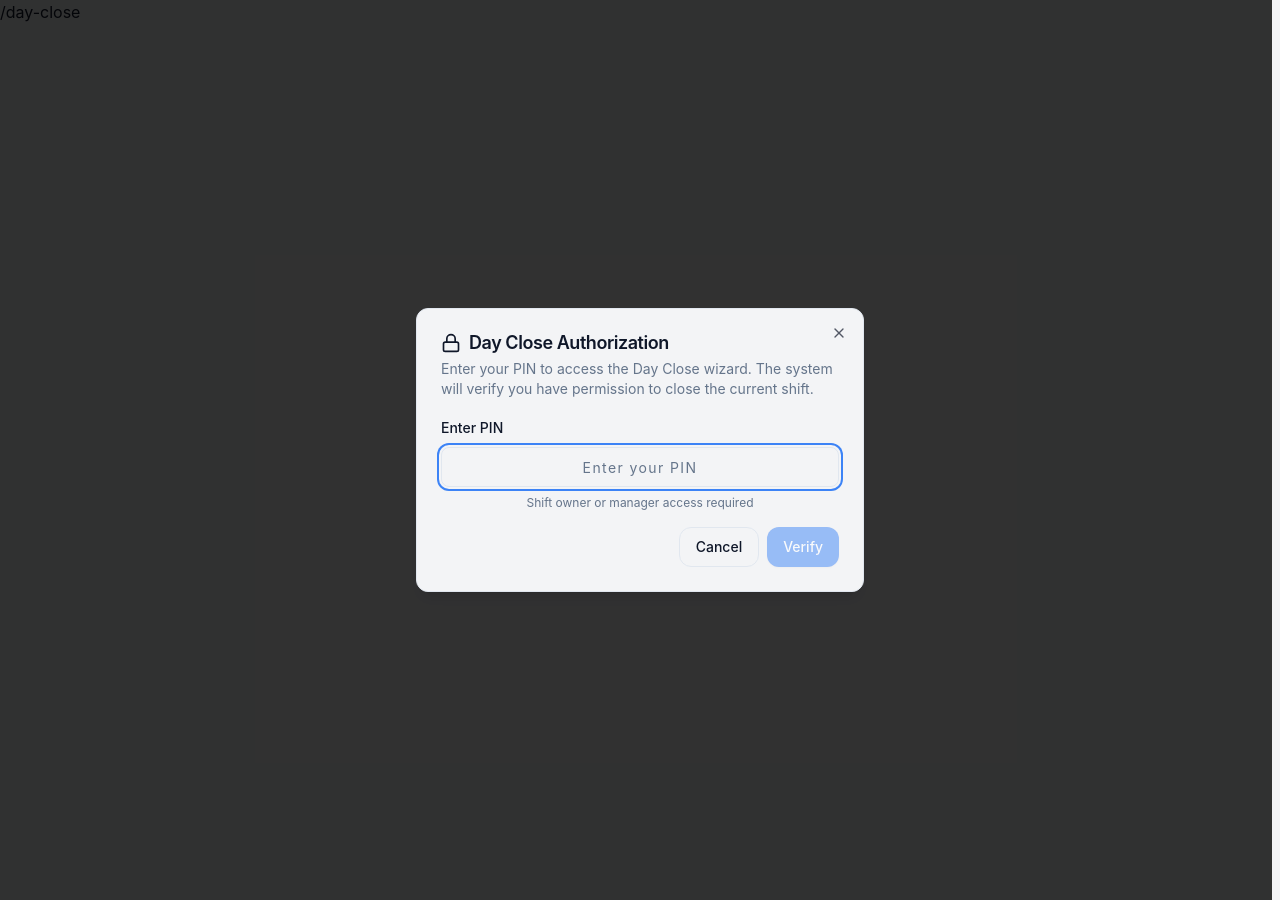
Shift Close Guard Integration (Phase 4.2) › 4.2.1: Guard shows PIN dialog when no session › should enable Verify button when PIN is 4+ digits
// Type 4 digits
Type "1234" into the password field with test id "day-close-pin-input" at (640, 467), box [441,447,839,487]
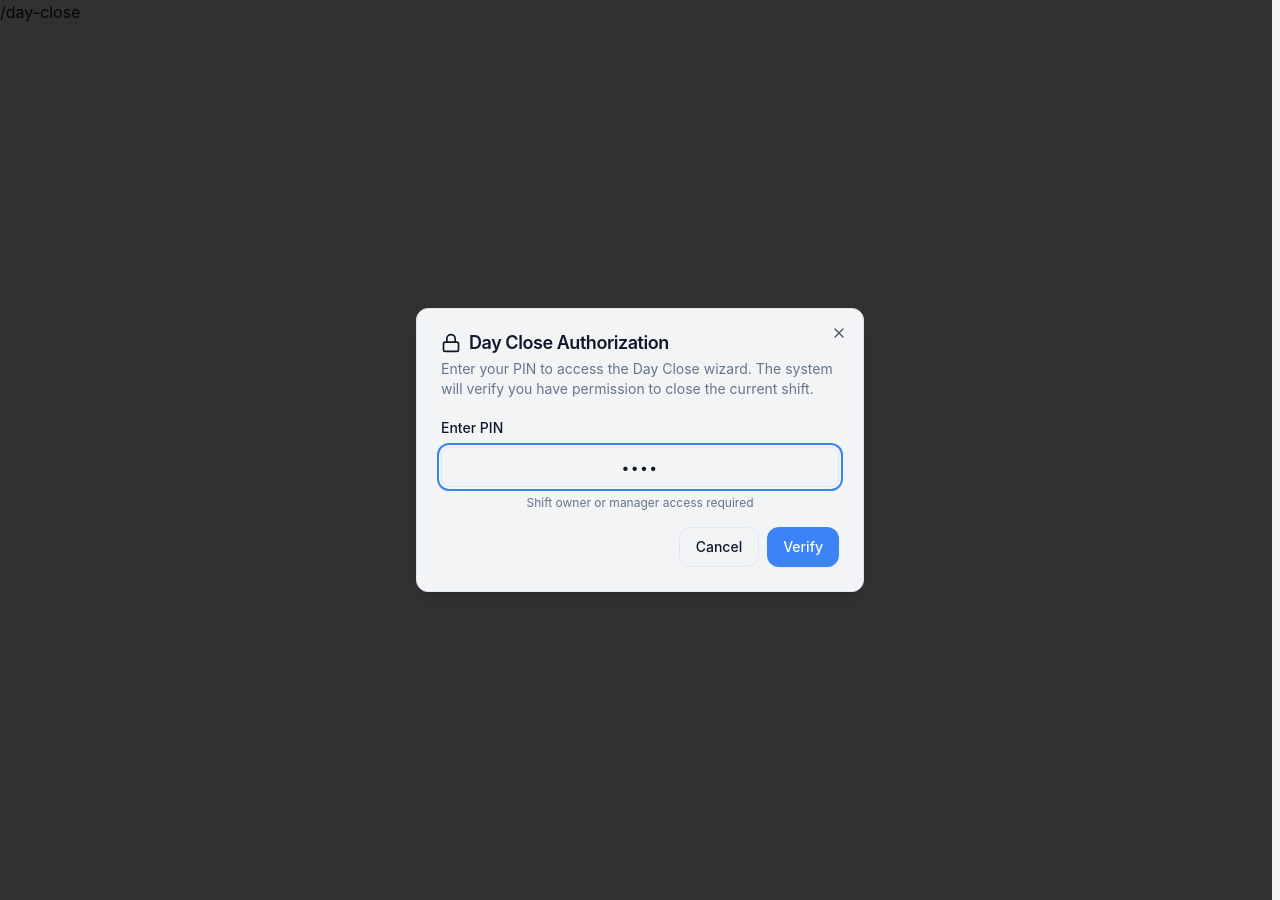
Expected: the button with test id "day-close-verify-btn" is enabled, [767,527,839,567]
